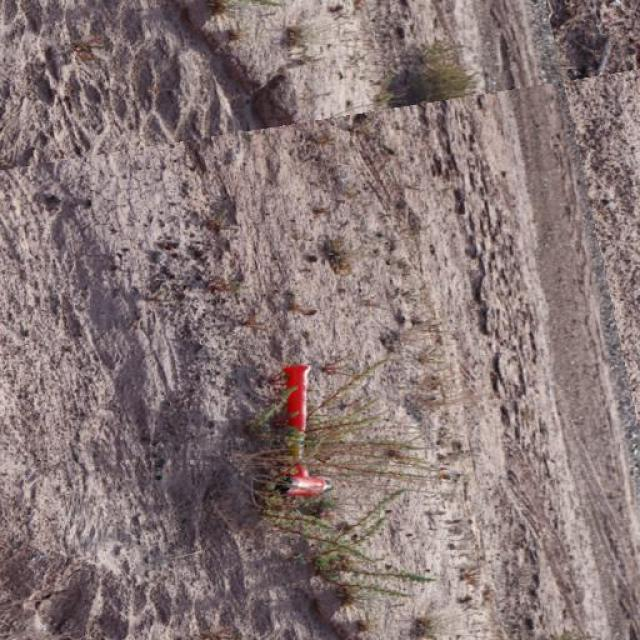mallet: (276, 362, 330, 498)
